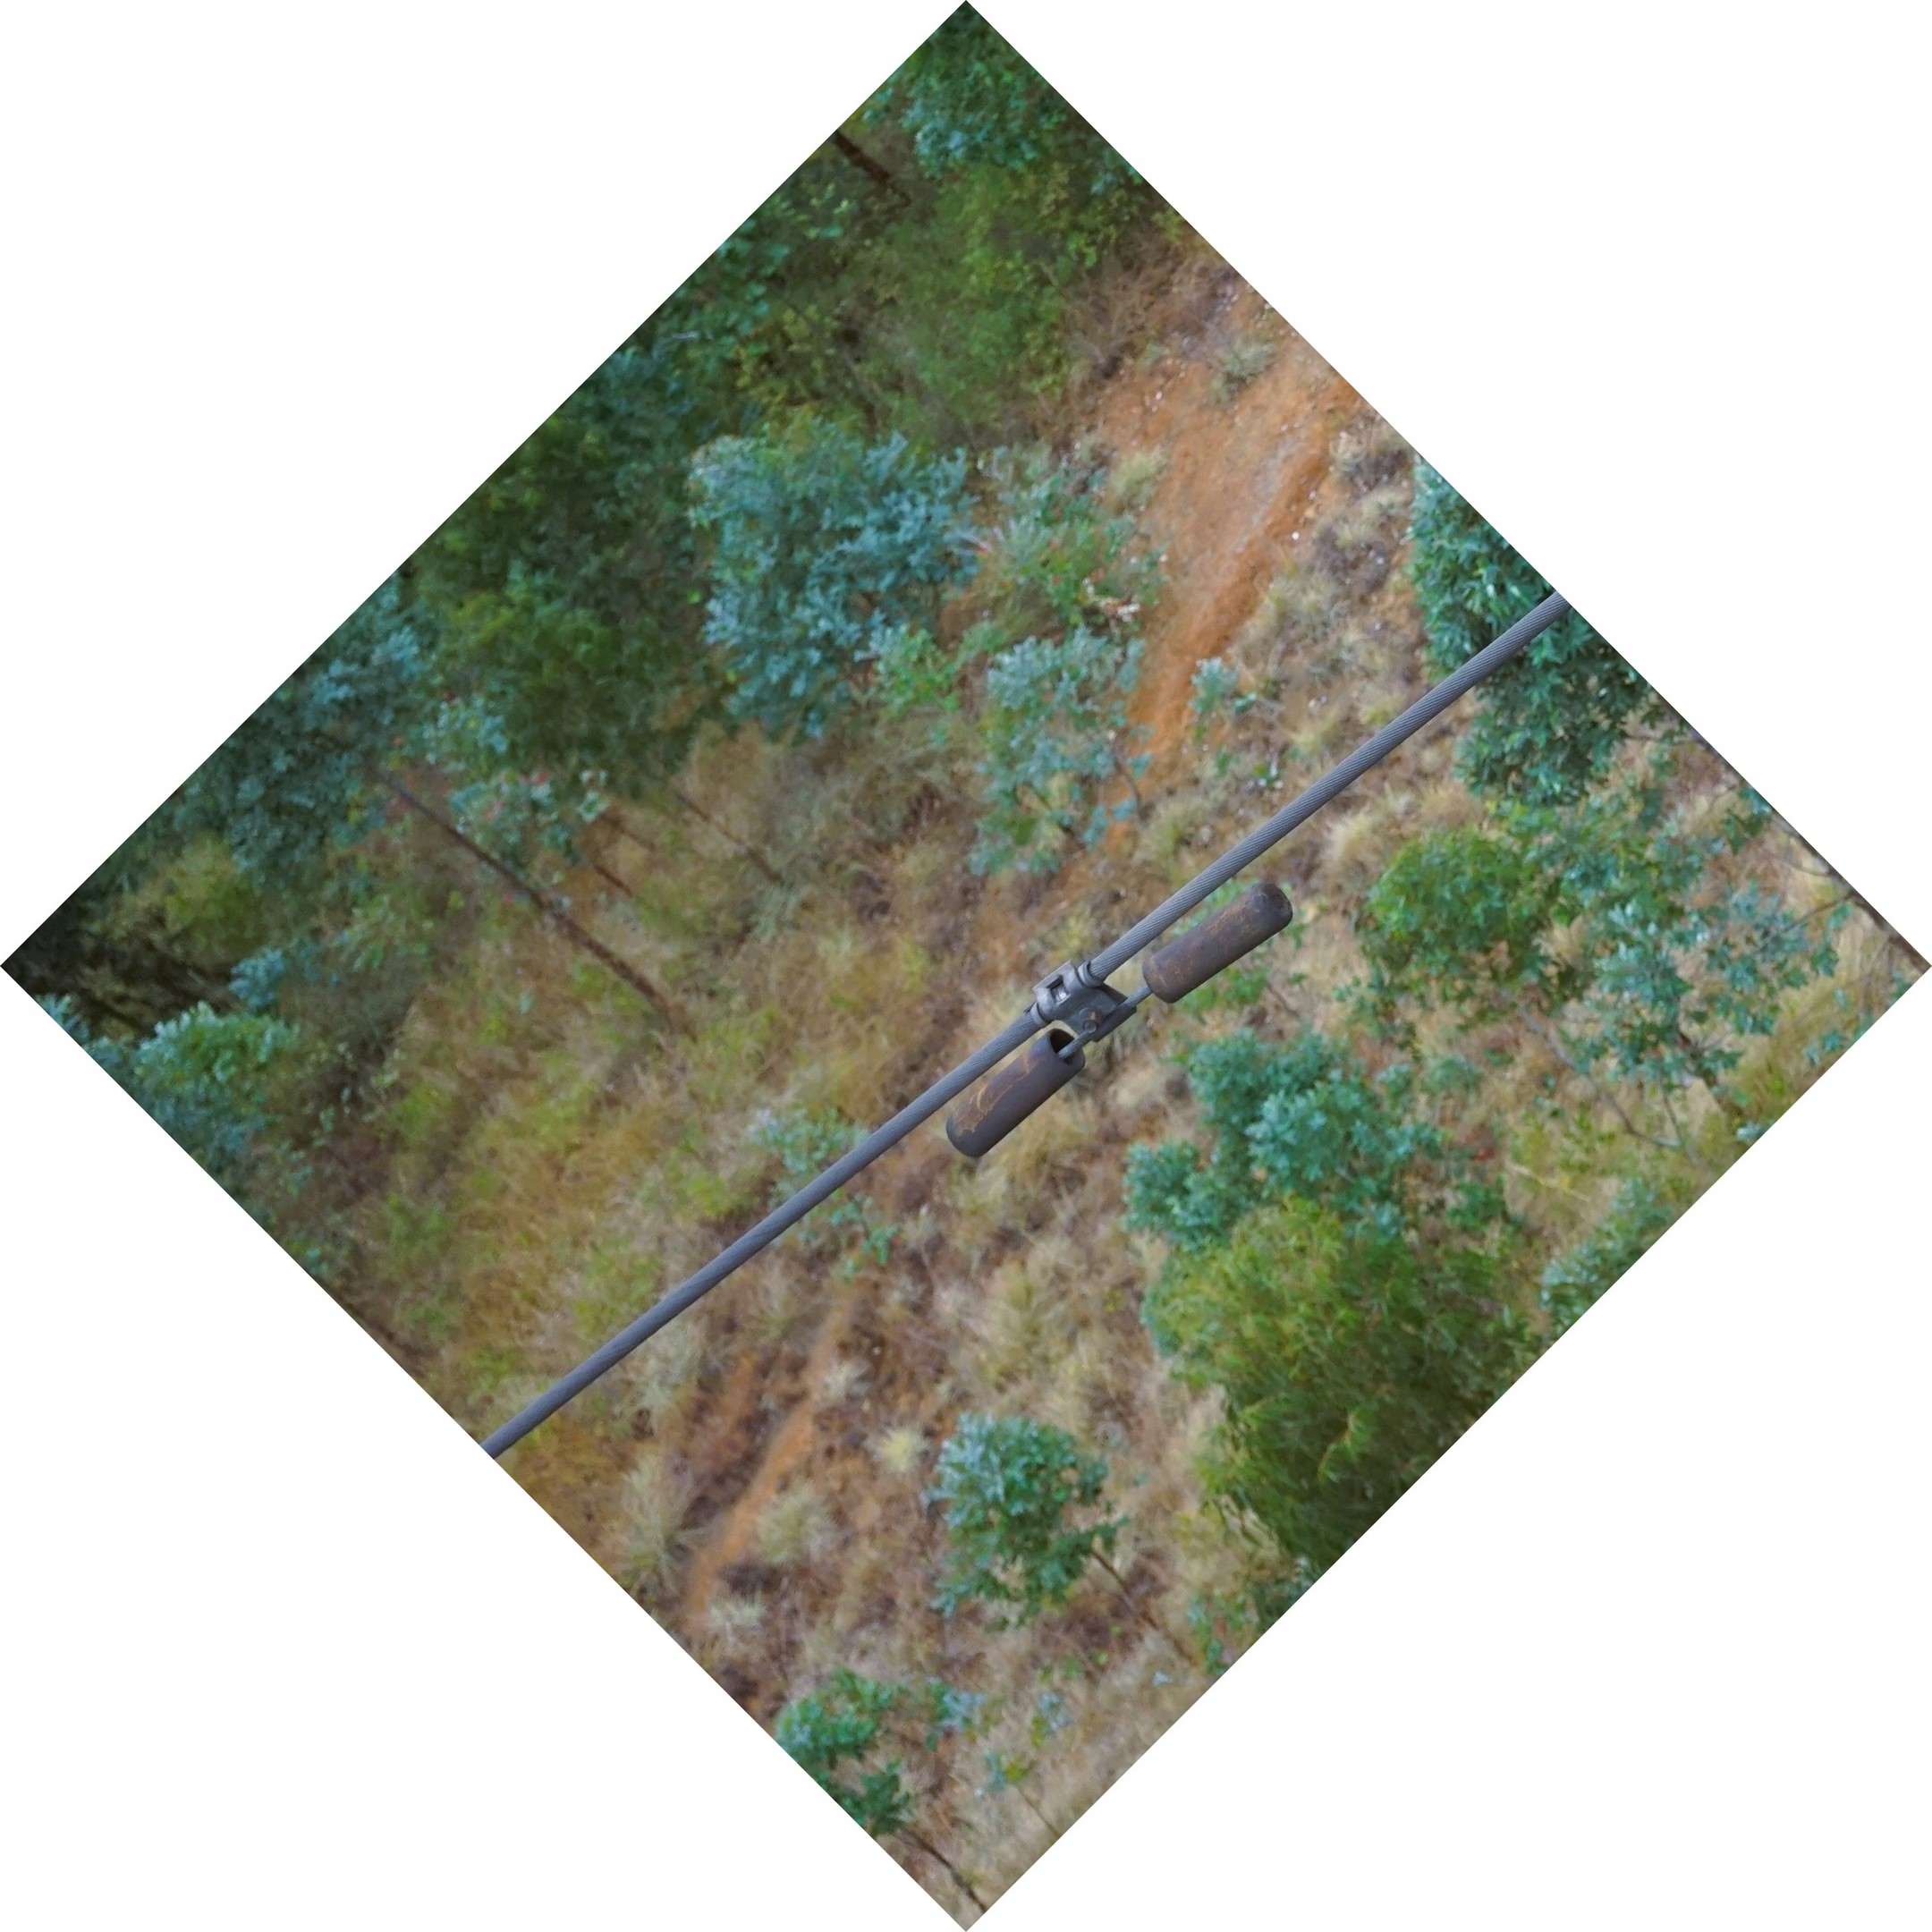Shockproof hammer: (922, 862, 1322, 1173)
